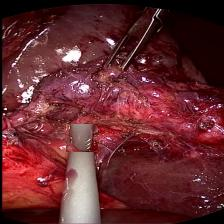Grasper: (98, 13, 170, 74)
Irrigator: (65, 124, 97, 152)
